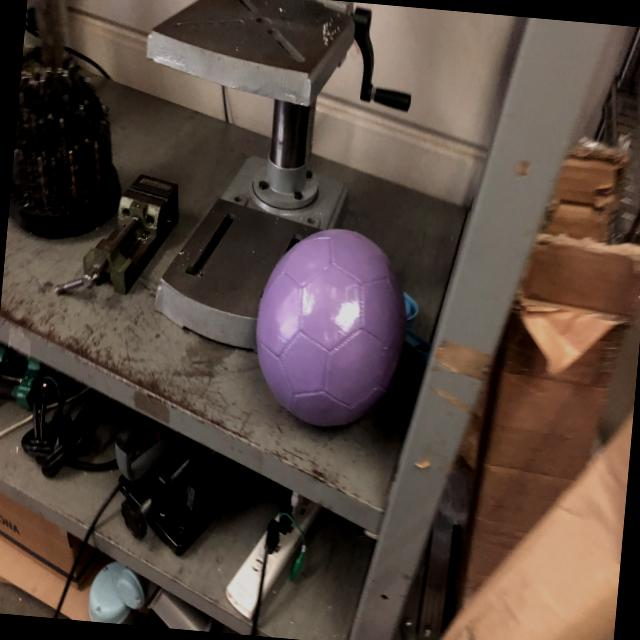purple_ball: (248, 222, 414, 433)
